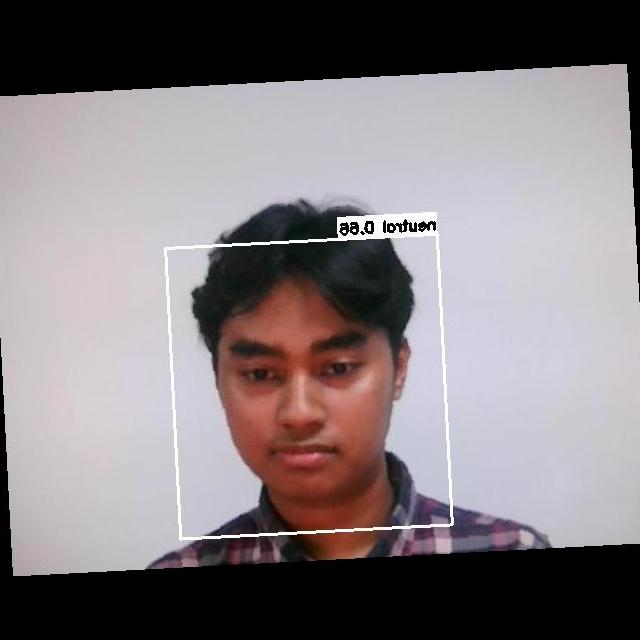Natural: (206, 325, 401, 479)
